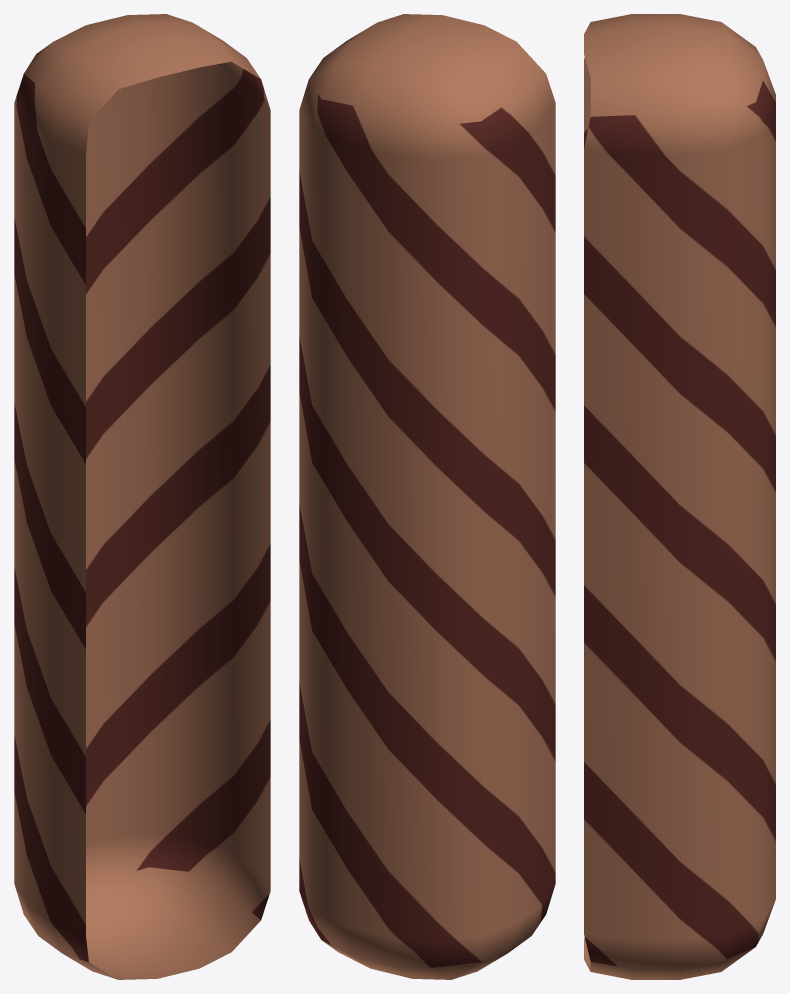
The model's file is Obj_piller_03.fbx.
The picture shows the model from 3 angles, left to right: view 1: azimuth 30°, elevation 25°; view 2: azimuth 150°, elevation 25°; view 3: azimuth 270°, elevation 25°; orthographic projection.
Visible parts, largest first — view 1: piller_03; view 2: piller_03; view 3: piller_03.
Boxes of the visible parts, x1,y1,x2,y2 form: piller_03: [14, 14, 270, 979]; piller_03: [299, 14, 555, 979]; piller_03: [584, 14, 775, 979].
Size of the model in its own units: 100 by 425 by 80.
